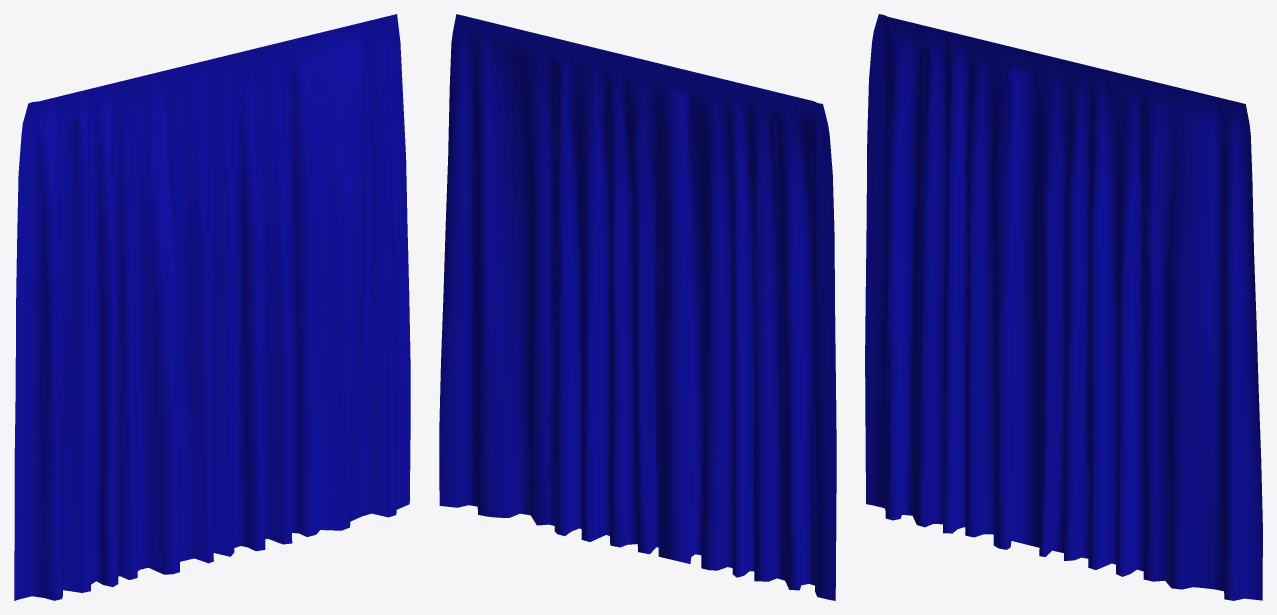
File: 60_Gardin.fbx
The picture shows the model from 3 angles, left to right: view 1: azimuth 30°, elevation 25°; view 2: azimuth 150°, elevation 25°; view 3: azimuth 330°, elevation 25°; orthographic projection.
Visible parts, largest first — view 1: SM_Gardin_2.0; view 2: SM_Gardin_2.0; view 3: SM_Gardin_2.0.
Part boxes in pixels (x1=…): SM_Gardin_2.0: x1=14, y1=14, x2=410, y2=600; SM_Gardin_2.0: x1=439, y1=14, x2=836, y2=600; SM_Gardin_2.0: x1=865, y1=14, x2=1262, y2=600.
Size of the model in its own units: 201 by 240 by 12.75.
